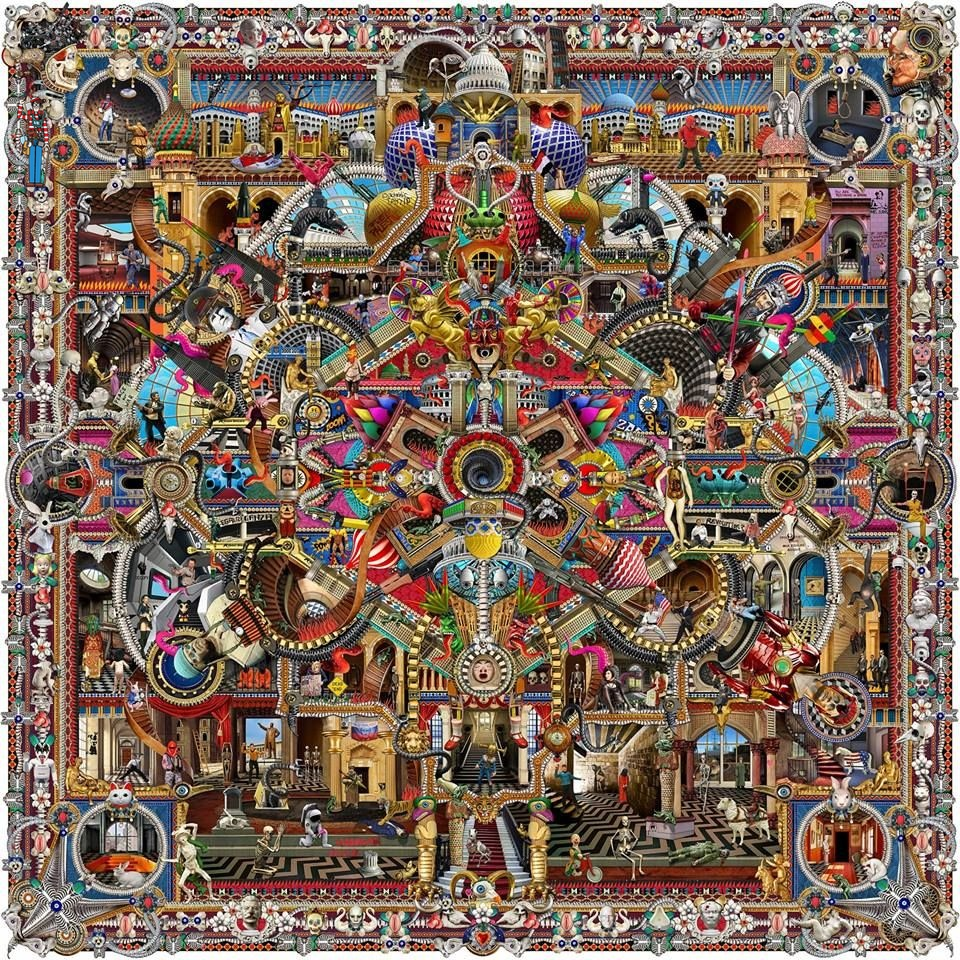waldo: (17, 95, 51, 188)
